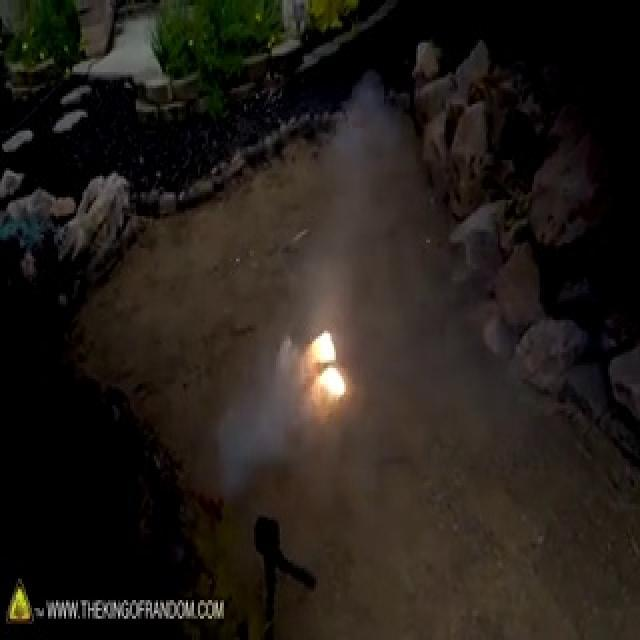Fire: (302, 320, 350, 407)
Smoke: (306, 83, 436, 334), (205, 360, 294, 488)
